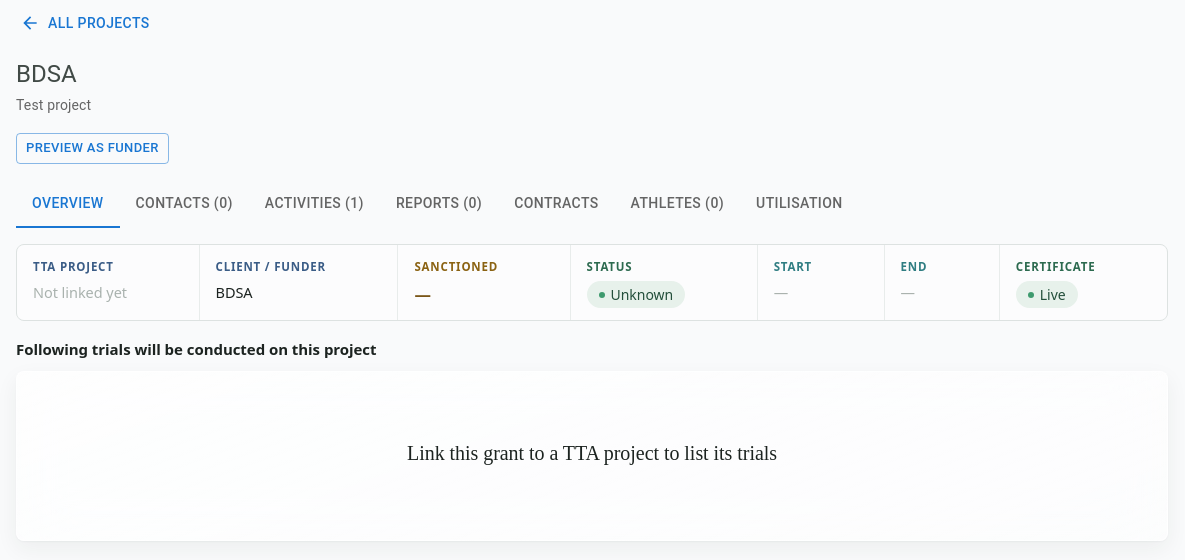
a failed activity-type catalogue does not take the grant down
expect the heading "BDSA" is shown: met, box left=16, top=60, right=77, bottom=88
Click the tab "Activities (1)" at point(314, 204), box left=249, top=180, right=380, bottom=228
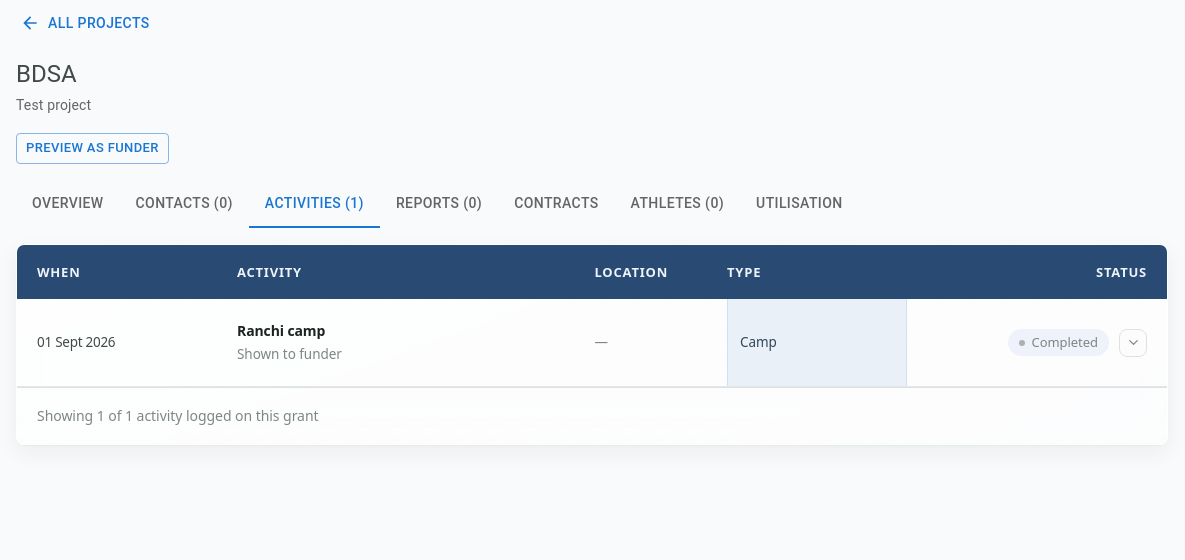
expect the text "Ranchi camp" is shown: met, box left=237, top=321, right=325, bottom=340
expect the text "Camp" is shown: met, box left=727, top=299, right=907, bottom=386
